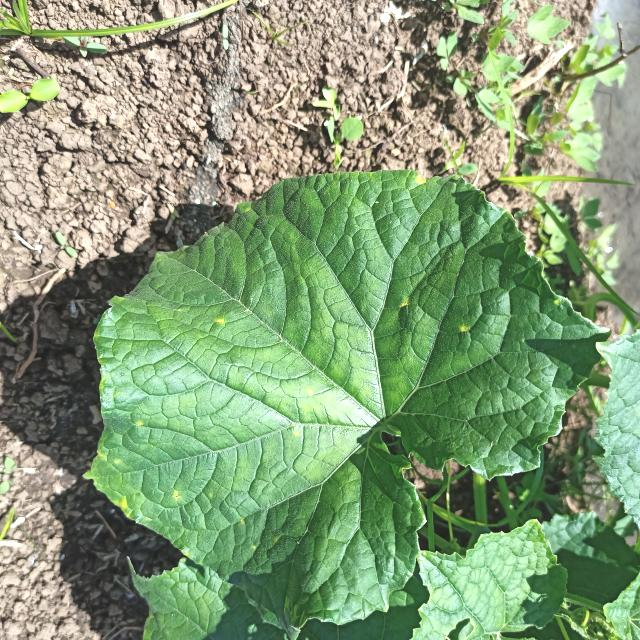disease_cucumber: (114, 496, 130, 516), (400, 299, 410, 308), (418, 176, 426, 186), (553, 297, 561, 306), (306, 388, 314, 395), (461, 325, 468, 332), (173, 491, 180, 498), (216, 318, 224, 324), (295, 429, 300, 436), (136, 422, 143, 426), (185, 552, 188, 556), (240, 519, 243, 522)
